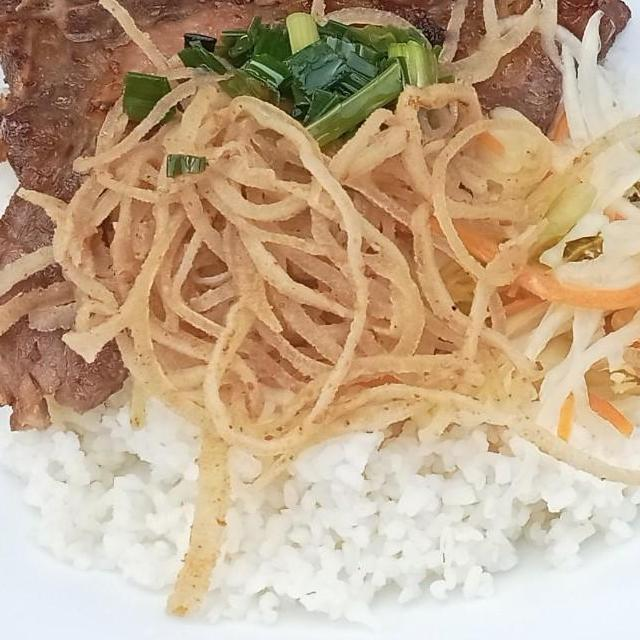bi: (92, 45, 640, 546), (0, 189, 249, 259)
com: (0, 53, 239, 615)
dua chua: (154, 455, 640, 640)
suon: (169, 25, 640, 568)
